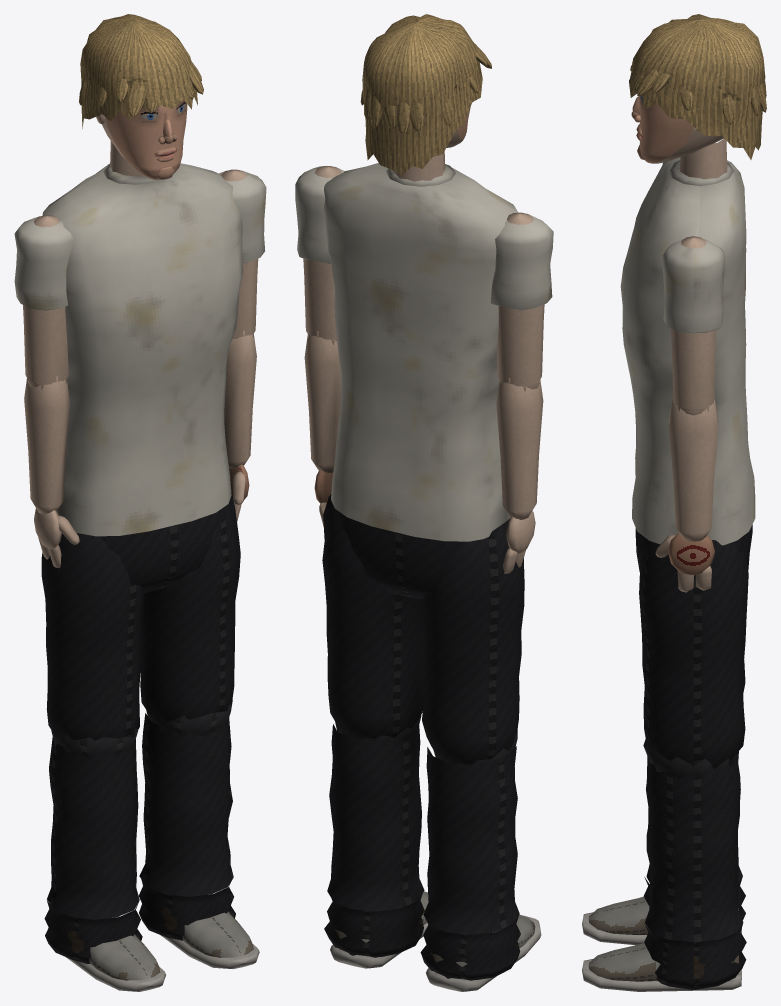
The model's file is char_alex.glb.
3 views of the same model, side by side, from view 1: azimuth 30°, elevation 25°; view 2: azimuth 150°, elevation 25°; view 3: azimuth 270°, elevation 25° (orthographic). The views are drawn at different scales.
Visible parts, largest first — view 1: Spine, ShinR, ShinL, ThighR, Head, ThighL, UpperArmR, Hips, ForearmR, UpperArmL, ForearmL, FootR (+3 smaller); view 2: Spine, ThighR, ShinL, ShinR, ThighL, Head, UpperArmR, Hips, ForearmR, UpperArmL, ForearmL, FootR (+3 smaller); view 3: Spine, ShinL, ThighL, Head, UpperArmL, ForearmL, FootL, FootR, HandL, Hips, ShinR.
Boxes of the visible parts, x1,y1,x2,y2 form: Spine: (42,163,243,536); ShinR: (44,728,142,963); ShinL: (138,699,235,940); ThighR: (41,533,144,740); Head: (79,14,203,179); ThighL: (140,492,240,721); UpperArmR: (14,215,74,386); Hips: (100,506,225,592); ForearmR: (24,376,69,514); UpperArmL: (219,169,266,338); ForearmL: (224,330,256,468); FootR: (66,916,165,991); Spine: (324,163,517,541); ThighR: (420,519,524,764); ShinL: (324,714,424,957); ShinR: (420,727,520,980); ThighL: (322,494,424,738); Head: (360,14,491,181); UpperArmR: (490,212,553,387); Hips: (337,511,463,599); ForearmR: (496,378,543,519); UpperArmL: (295,166,344,341); ForearmL: (304,331,341,472); FootR: (426,914,541,991); Spine: (620,157,755,545); ShinL: (643,739,746,989); ThighL: (639,540,748,769); Head: (629,14,766,179); UpperArmL: (662,236,725,411); ForearmL: (669,393,718,541); FootL: (582,943,741,991); FootR: (582,896,741,945); HandL: (655,533,714,592); Hips: (635,524,752,571); ShinR: (644,751,745,920).
Bounding box in the file's own units: 0.5232 × 1.89 × 0.3361.
Materials: 10 (10 with a texture image).
